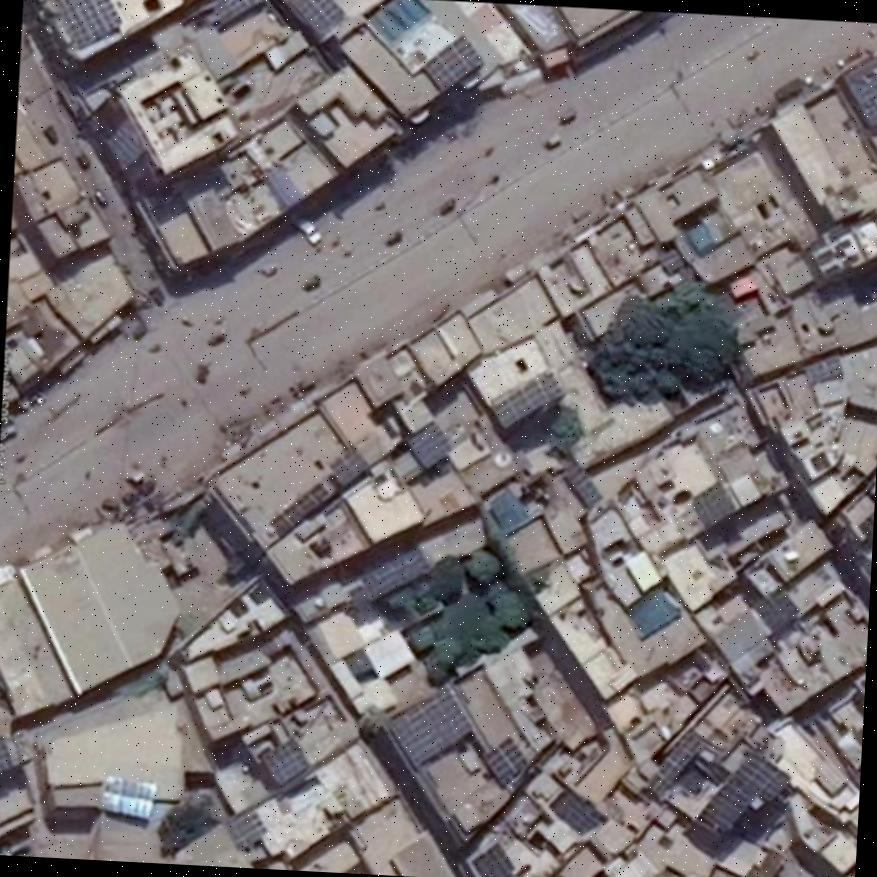Solarpanel: (698, 754, 791, 840), (389, 685, 473, 765), (492, 371, 565, 424), (53, 0, 123, 49), (423, 34, 483, 87), (270, 482, 327, 537), (264, 737, 308, 785), (407, 422, 452, 467), (290, 0, 346, 34), (481, 739, 525, 781), (564, 461, 603, 507), (473, 843, 515, 877), (0, 735, 12, 771)
